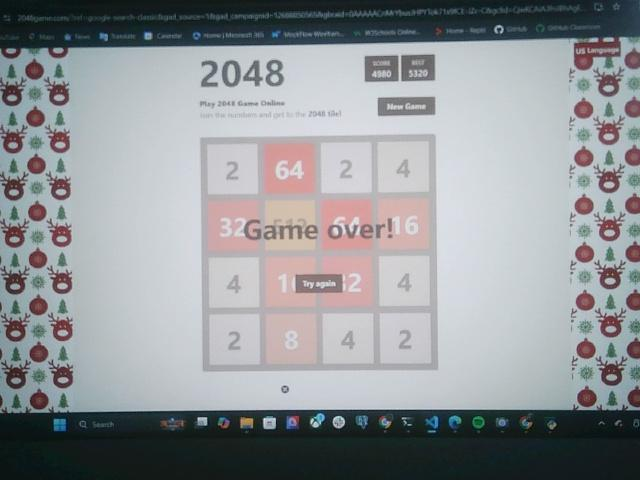best_score_box: (402, 55, 436, 81)
button: (378, 97, 435, 116), (295, 273, 343, 294)
score_box: (366, 55, 399, 82)
